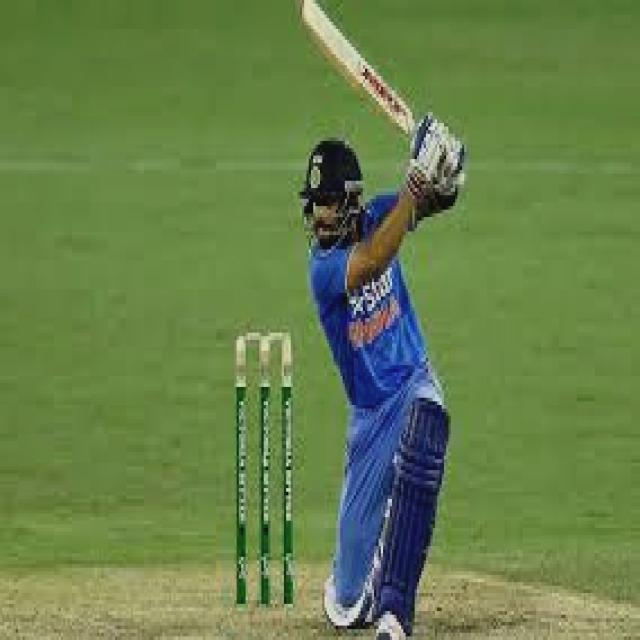toe: (292, 0, 332, 47)
